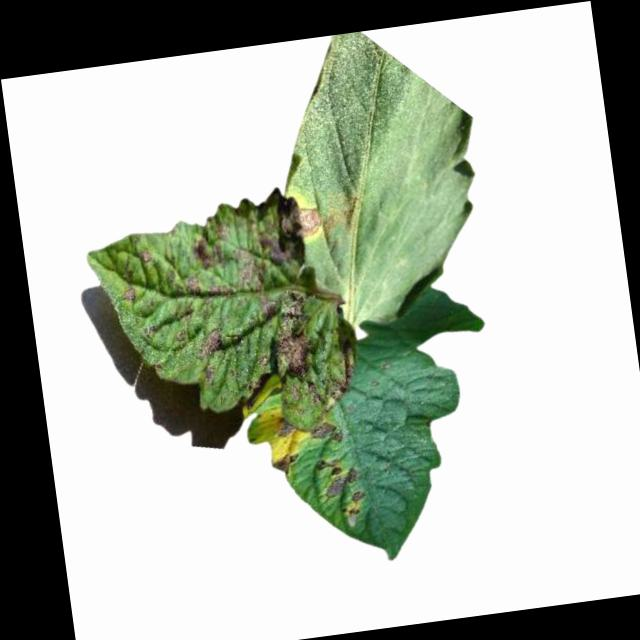Early_blight: (189, 186, 306, 291), (271, 283, 360, 412), (314, 453, 370, 526), (191, 329, 234, 386), (295, 203, 324, 242), (311, 418, 345, 446), (268, 453, 302, 478), (273, 416, 298, 444), (119, 286, 140, 308), (185, 278, 200, 299), (136, 250, 152, 267)
